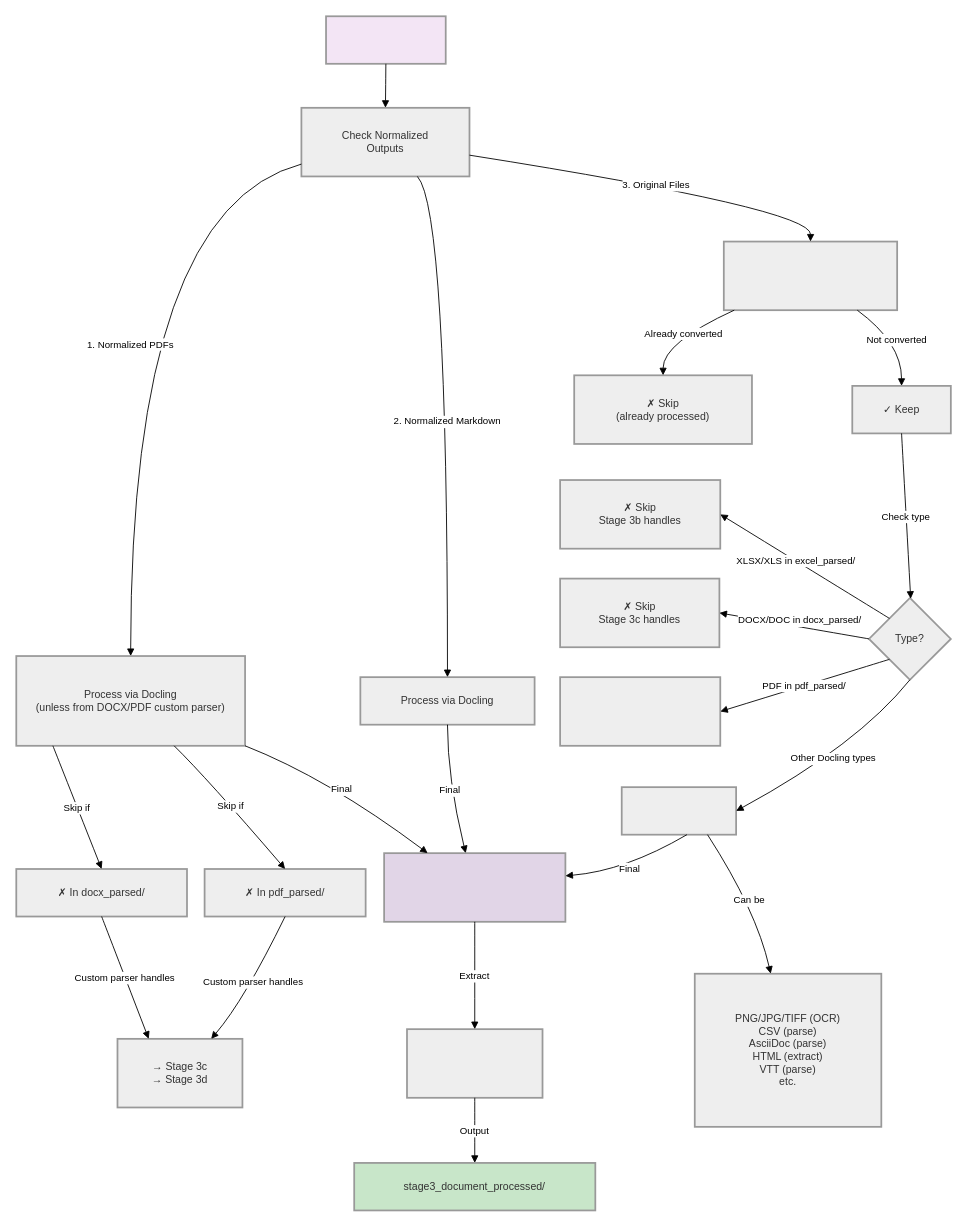
Some shapes in this 966 by 1226 pixel diagram are drawn without their labels. Here are the shapes that lost their labels. From the top down, the centre of each, then its label:
At point 385,39: "Input Files".
At point 810,275: "Check if converted to PDF or MD".
At point 640,711: "✗ Skip Stage 3d handles".
At point 678,810: "✓ Process".
At point 474,887: "→ Docling DocumentConverter".
At point 474,1063: "Text + Tables + Images".
